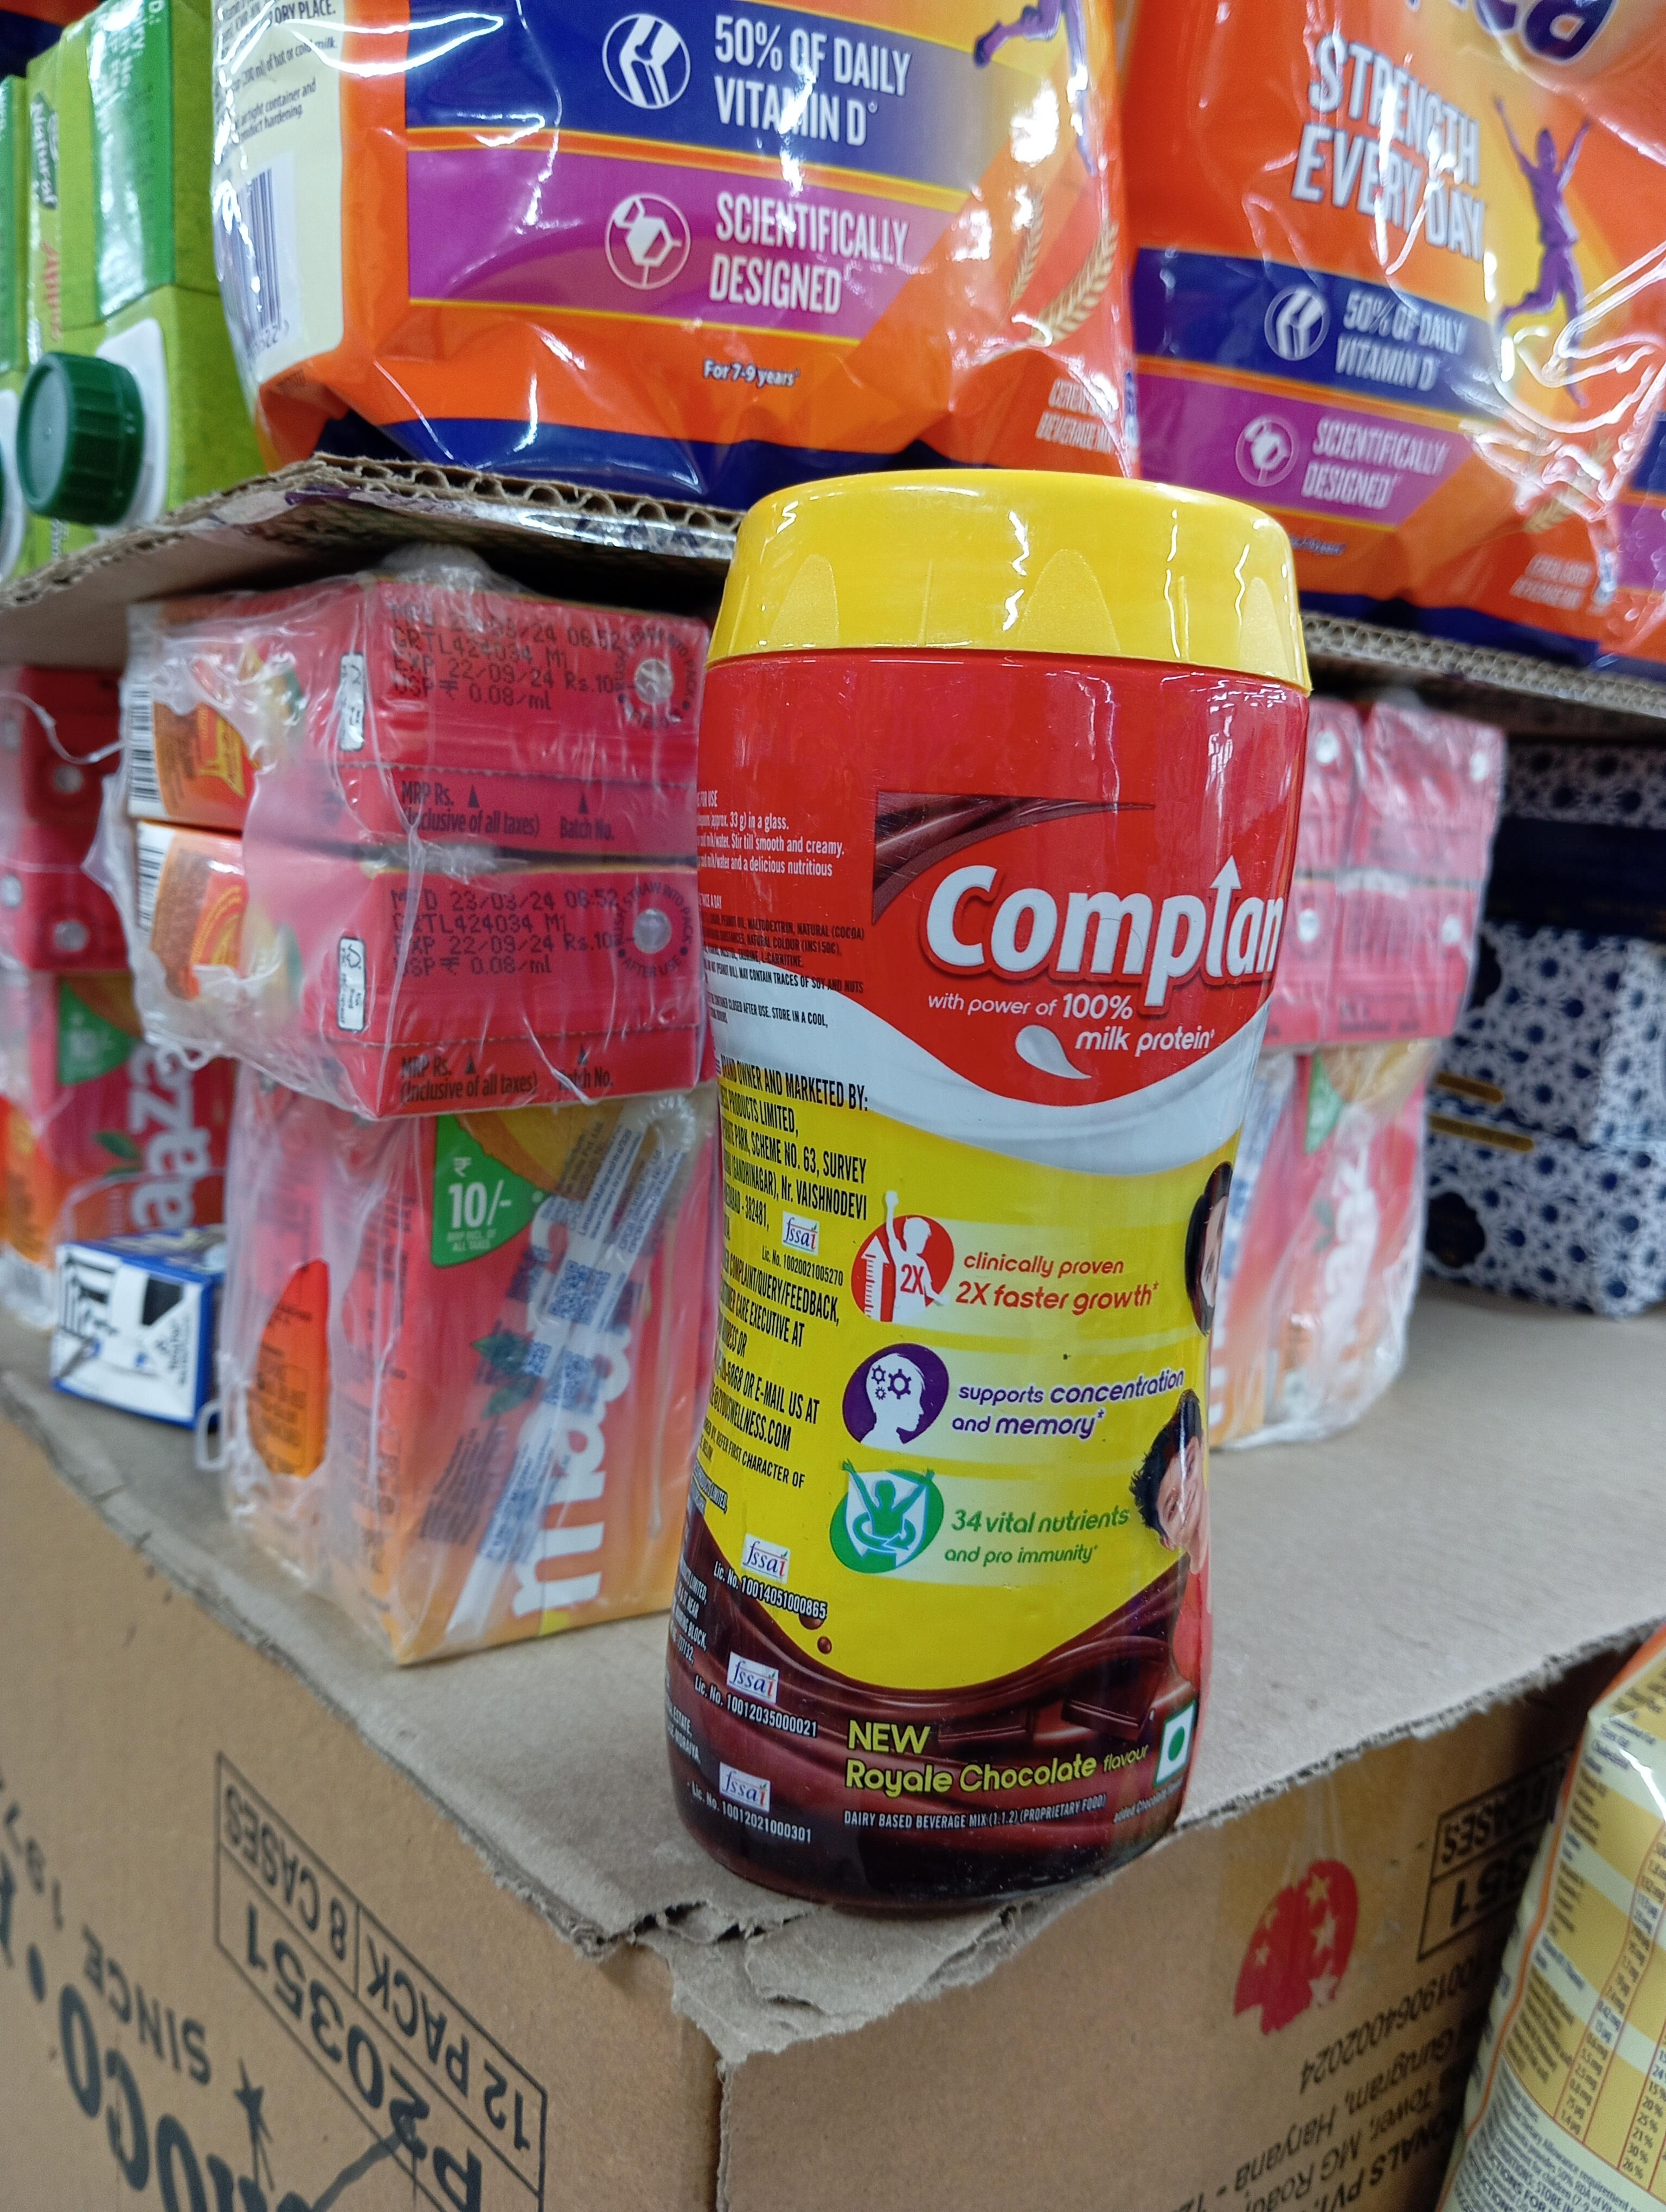COMPLAN_CHOCOLATE_200_GMS_JAR: (705, 428, 1230, 1882)
